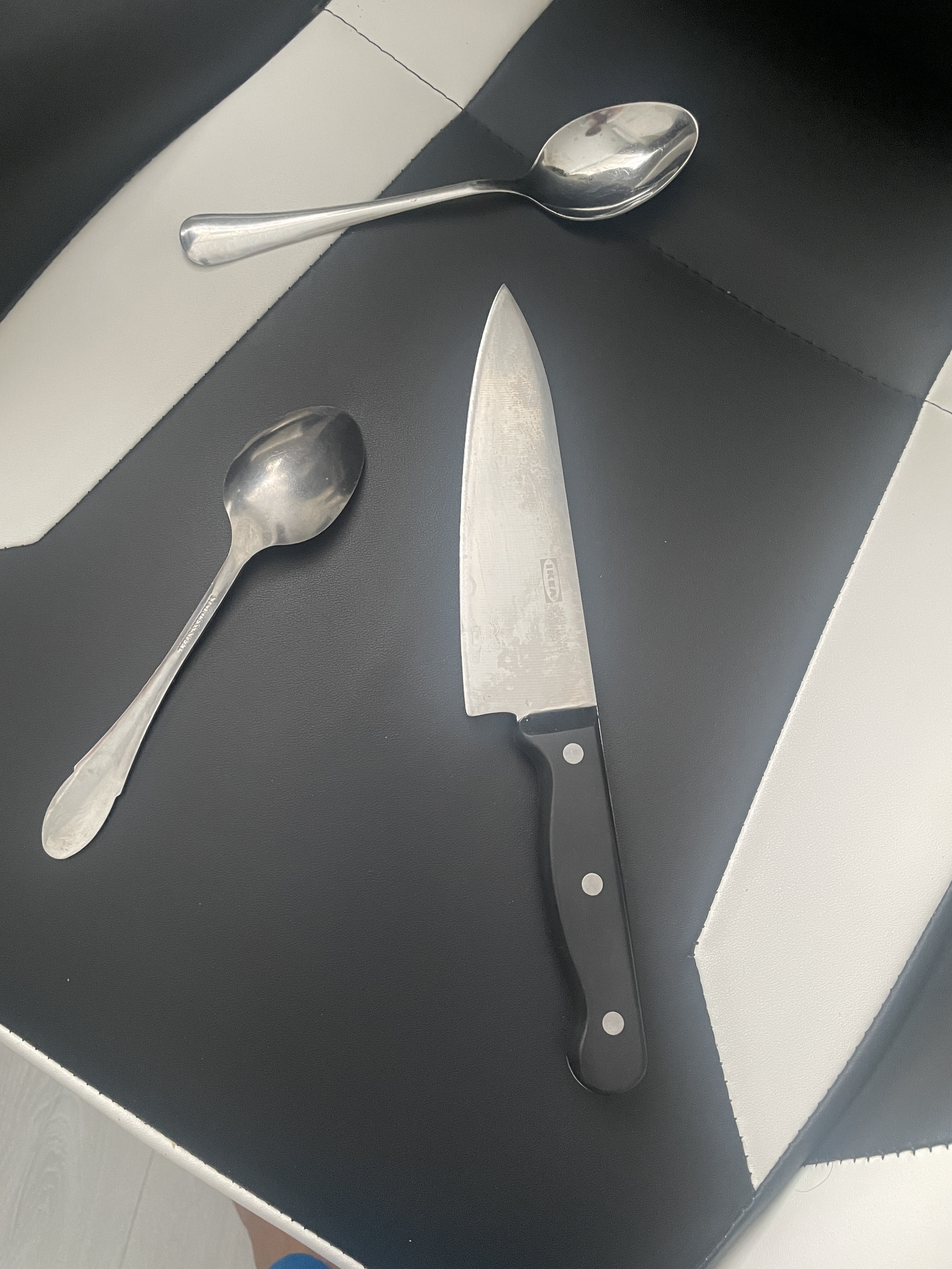knife: (460, 286, 646, 1093)
spoon: (42, 406, 365, 859), (180, 102, 698, 266)
